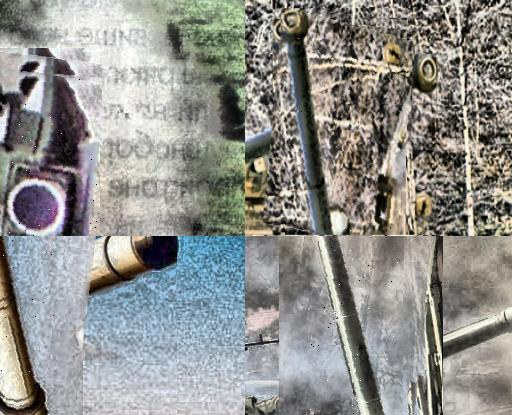tanks: (282, 10, 413, 235), (1, 71, 102, 237), (318, 237, 383, 415), (1, 237, 53, 415), (422, 237, 444, 415)
